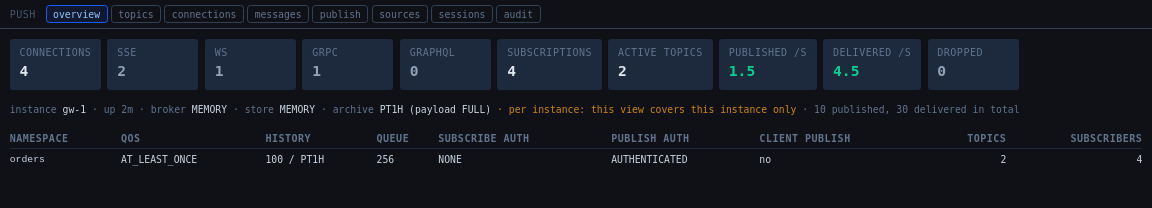
Test case: PushPanel › sends the console token in a connect frame and reports a refused connection
Click the button "topics".
click(136, 14)  # box [111,5,161,23]
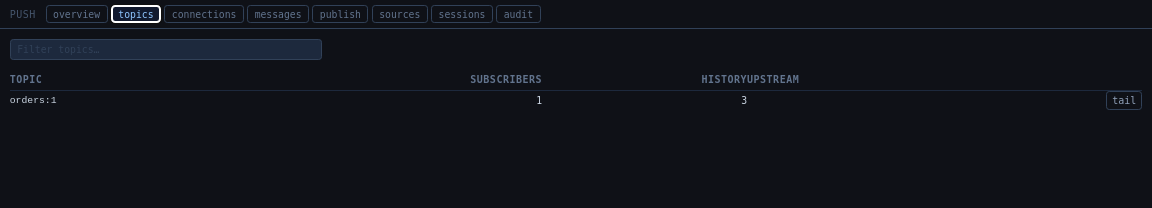
Click the button "tail".
click(1124, 101)  # box [1106,91,1142,110]
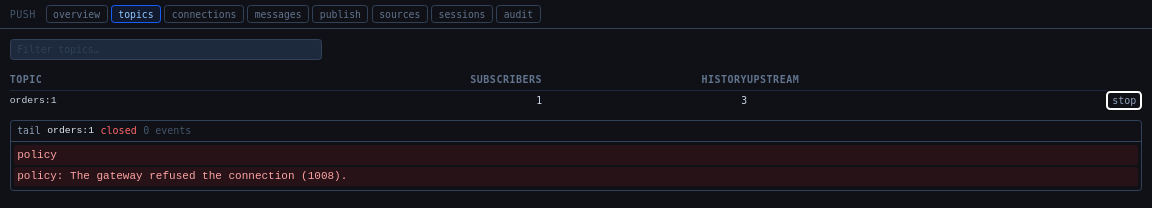
expect the text "policy: The gateway refused the connection (1008)." is shown: met, box [14,166,1138,186]
expect the text "closed" is shown: met, box [100,124,137,138]
